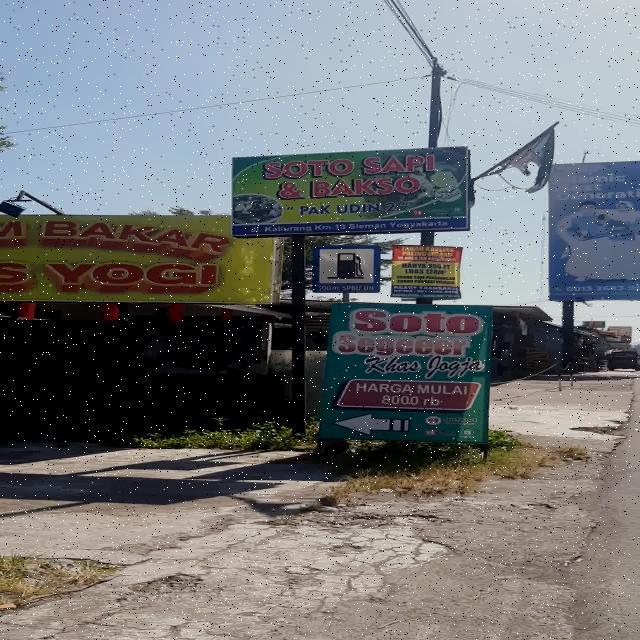Pom Bensin: (312, 245, 380, 293)
